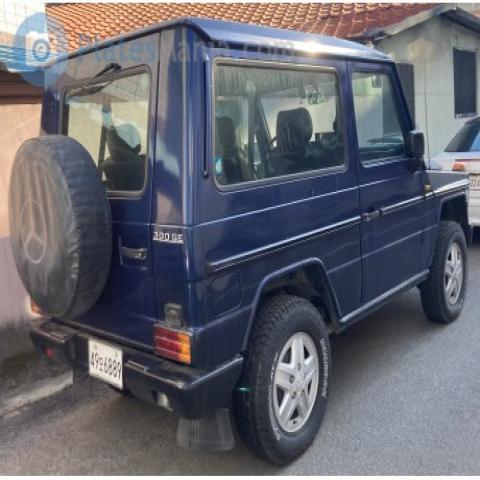LP: (77, 332, 128, 392)
